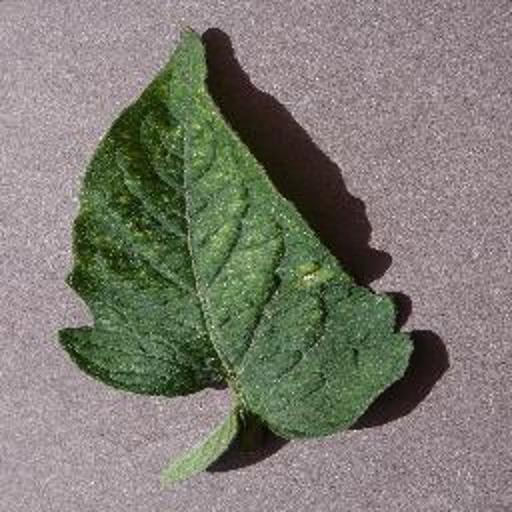Spider Mite: (43, 26, 446, 485)
